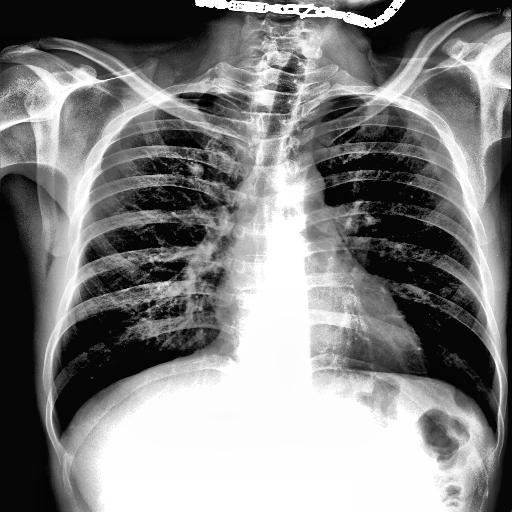7- Lung Opacity: (184, 160, 207, 178)
8- Nodule-Mass: (184, 160, 207, 178), (184, 161, 204, 179), (186, 163, 204, 179)
9- Other lesion: (184, 161, 204, 179)
